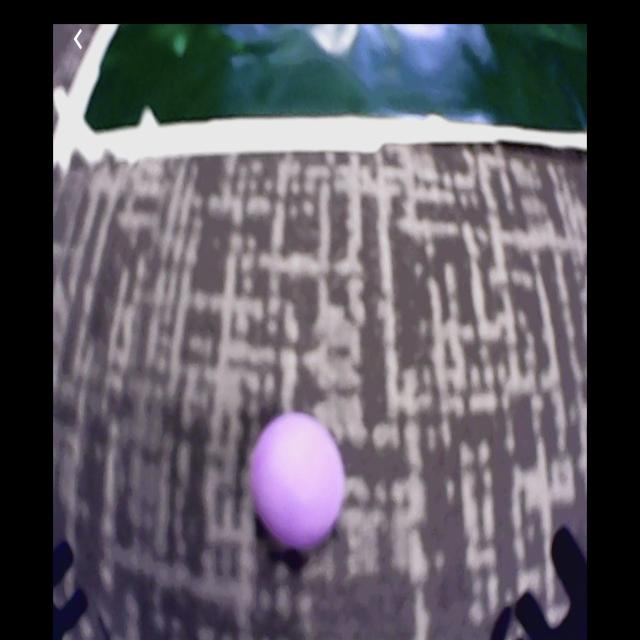ball: (246, 414, 346, 551)
